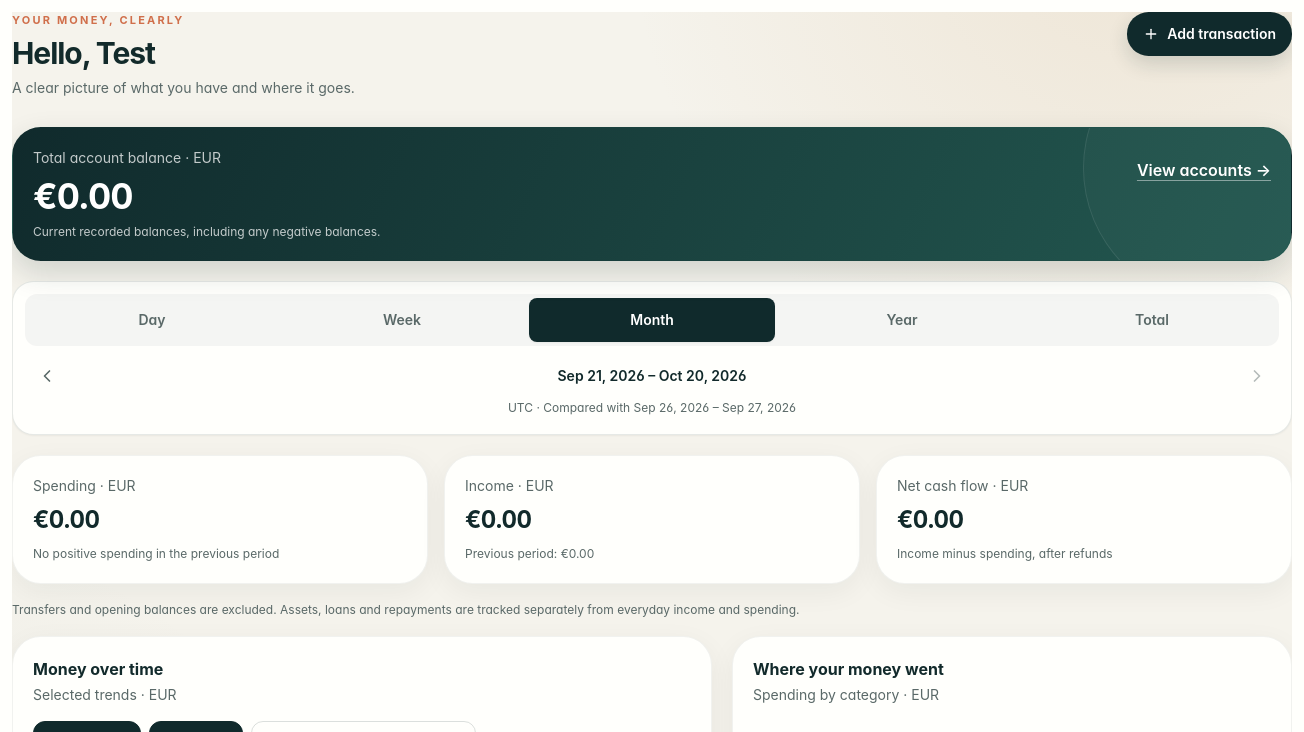
Test: uses the earliest transaction for Total and omits prior-period comparisons
Click the button "Total" at x=1152, y=320, box [1029,298,1275,342]
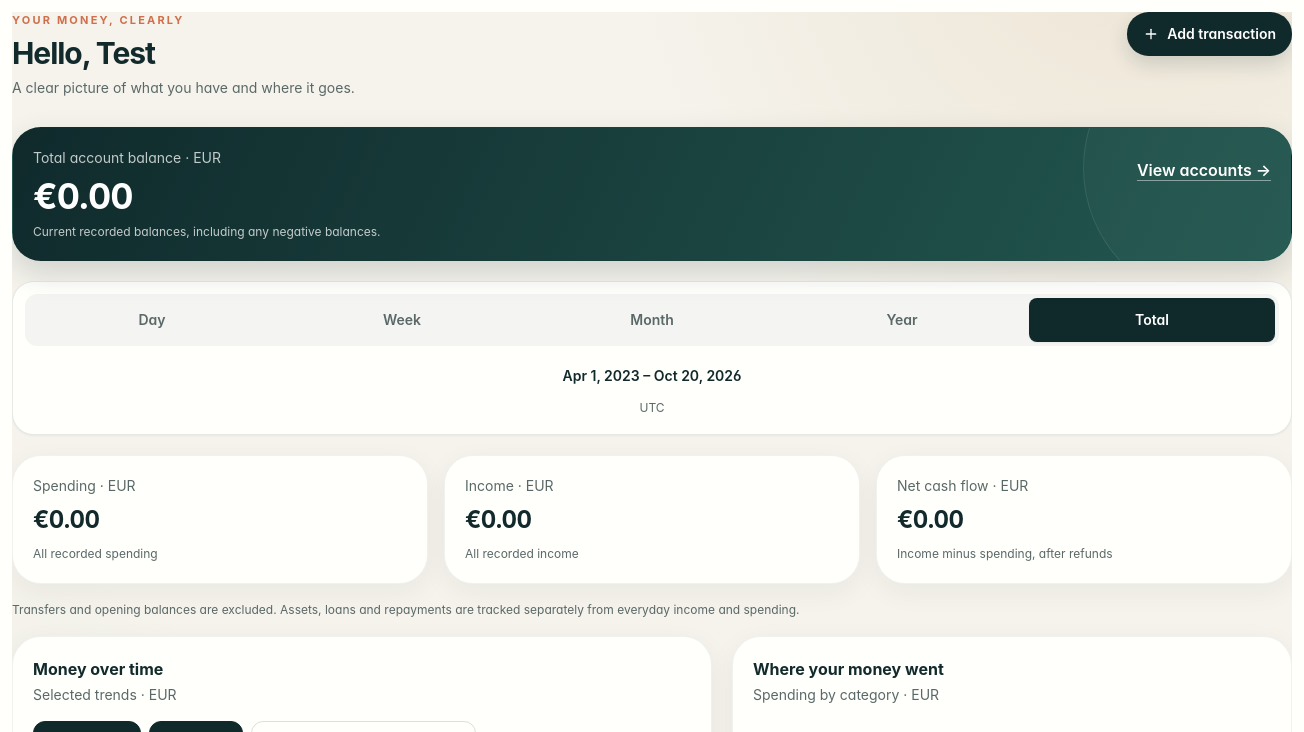
Check: the text "previous period" is gone
Check: the text "Compared with" is gone
